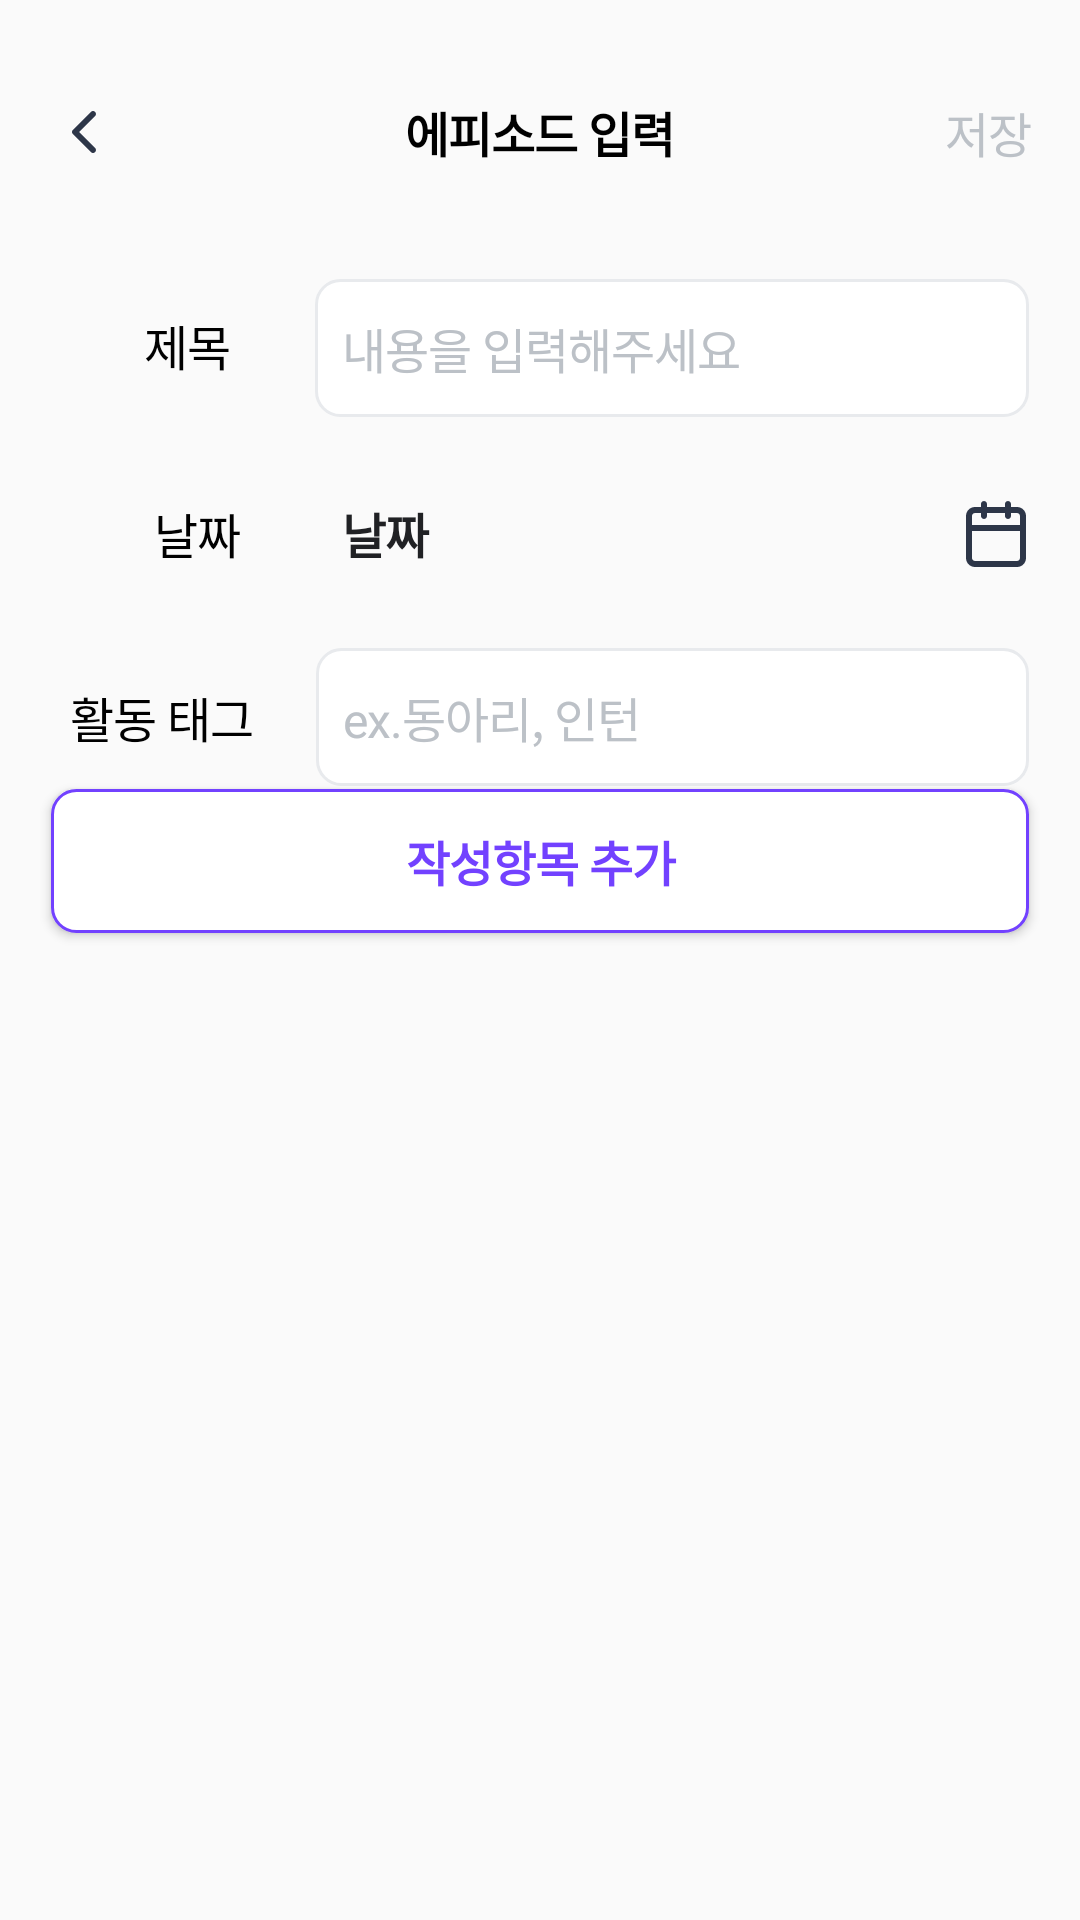

Icon bounding boxes for this 1080*1920 phone screenshot, format (x1, y1, x2, y2):
arrow: (72, 111, 96, 153)
calendar: (966, 501, 1026, 567)
